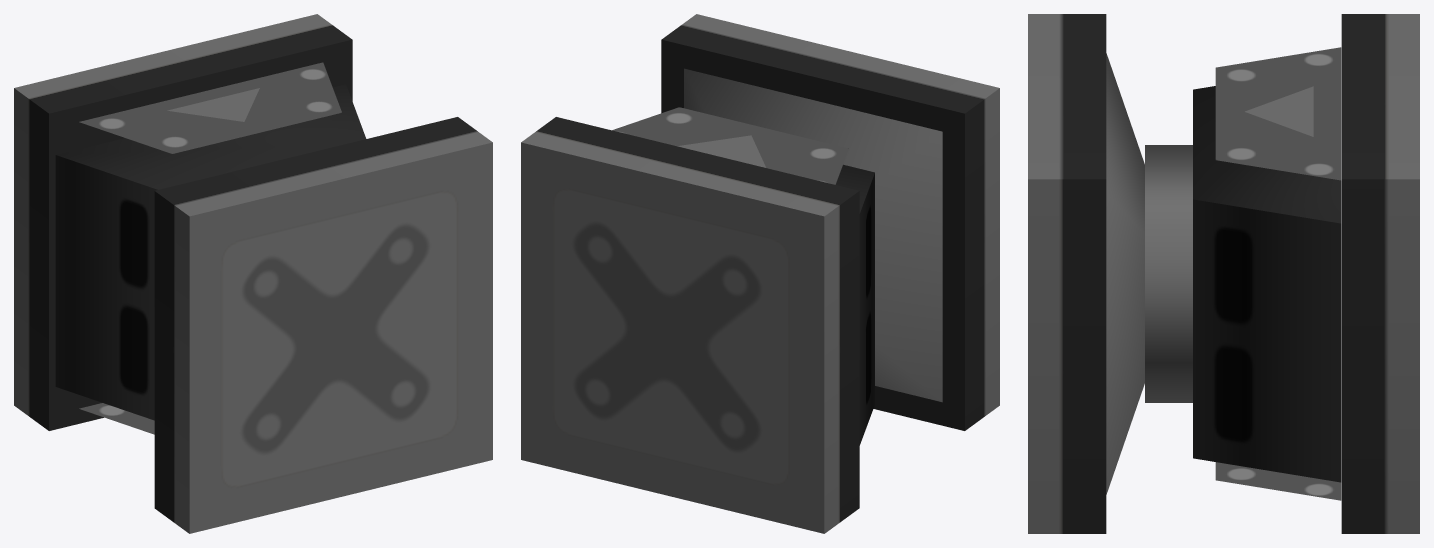
File: obj_interactive_piston_01_off_lod1.fbx
3 views of the same model, side by side, from view 1: azimuth 30°, elevation 25°; view 2: azimuth 150°, elevation 25°; view 3: azimuth 270°, elevation 25° (orthographic). The views are drawn at different scales.
Visible parts, largest first — view 1: obj_interactive_piston_01_off_lod1; view 2: obj_interactive_piston_01_off_lod1; view 3: obj_interactive_piston_01_off_lod1.
Part boxes in pixels (left/top/right/bottom): obj_interactive_piston_01_off_lod1: left=14, top=14, right=492, bottom=533; obj_interactive_piston_01_off_lod1: left=521, top=14, right=999, bottom=533; obj_interactive_piston_01_off_lod1: left=1028, top=14, right=1419, bottom=533.
Size of the model in its own units: 1 by 1 by 1.
